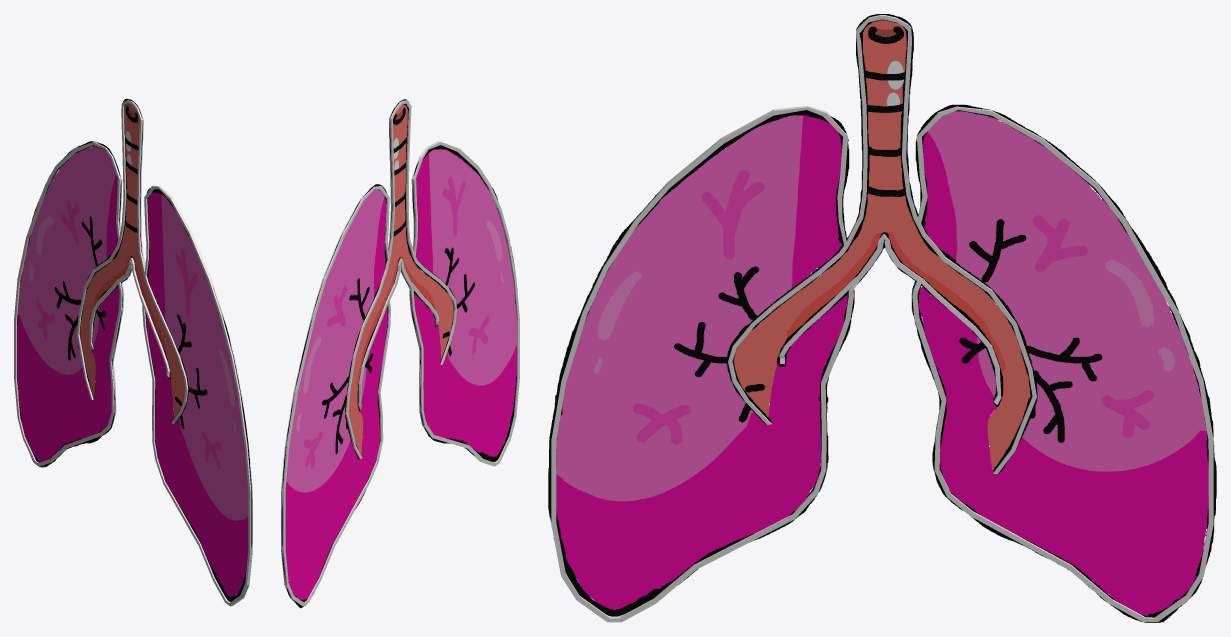
File: Lungs.fbx
3 renders of one model, left to right at view 1: azimuth 30°, elevation 25°; view 2: azimuth 150°, elevation 25°; view 3: azimuth 270°, elevation 25°, orthographic. The views are drawn at different scales.
Parts seen in each view (by area): view 1: lungs, Cube; view 2: lungs, Cube; view 3: lungs, Cube.
Boxes of the visible parts, bbox=[...] form: lungs: bbox=[17, 98, 252, 601]; Cube: bbox=[14, 100, 252, 606]; lungs: bbox=[281, 99, 517, 608]; Cube: bbox=[281, 100, 519, 606]; lungs: bbox=[548, 14, 1216, 622]; Cube: bbox=[551, 15, 1213, 622].
Size of the model in its own units: 86.52 by 9497 by 9450.
